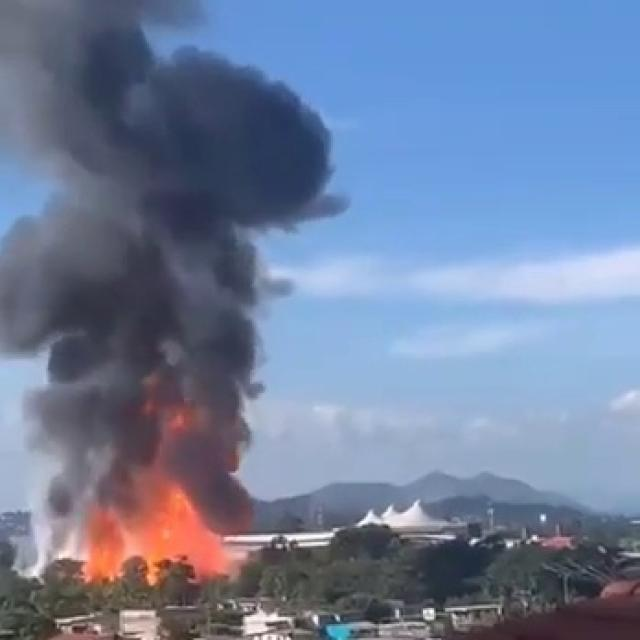Fire: (71, 499, 246, 588)
Smoke: (11, 14, 340, 501)
